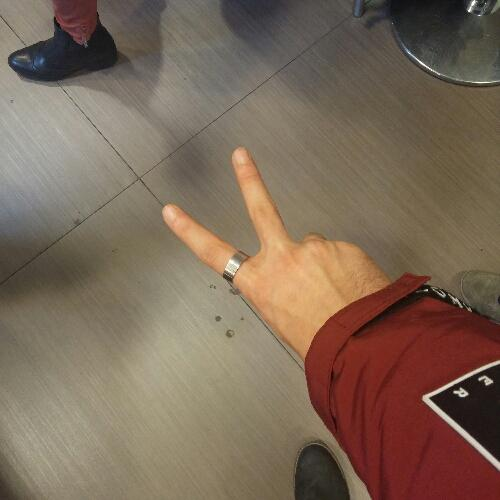scissors: (153, 140, 390, 356)
